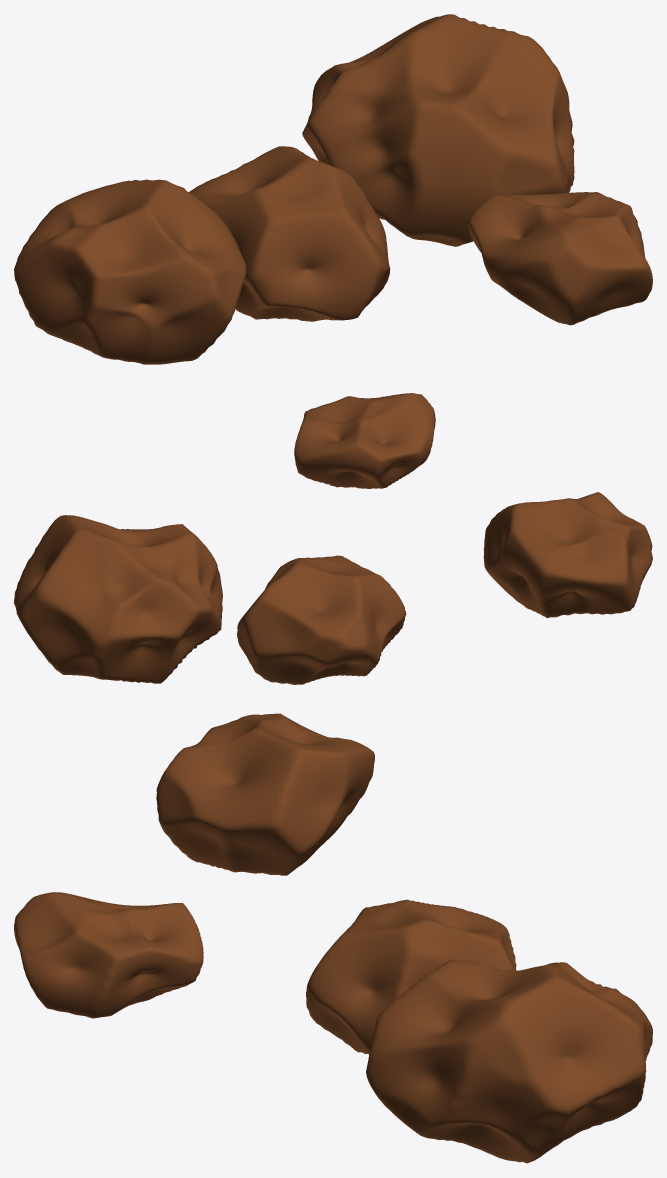
The model's file is rock.fbx.
3 views of the same model, one above another, from view 1: azimuth 30°, elevation 25°; view 2: azimuth 150°, elevation 25°; view 3: azimuth 270°, elevation 25° (orthographic). The views are drawn at different scales.
Parts seen in each view (by area): view 1: Cube.003, Cube.002, Cube.001, Cube.004; view 2: Cube.003, Cube.002, Cube.001, Cube.004; view 3: Cube.003, Cube.002, Cube.004, Cube.001.
Part boxes in pixels (x1,y1,x2,y2): Cube.003: (302, 14, 574, 246); Cube.002: (14, 179, 246, 364); Cube.001: (188, 146, 390, 321); Cube.004: (468, 192, 652, 325); Cube.003: (14, 515, 222, 683); Cube.002: (483, 492, 652, 618); Cube.001: (237, 555, 406, 684); Cube.004: (294, 393, 435, 488); Cube.003: (366, 960, 652, 1163); Cube.002: (156, 713, 374, 875); Cube.004: (14, 892, 203, 1018); Cube.001: (306, 899, 516, 1054).
Bounding box in the file's own units: 17.02 × 15.38 × 5.68.
